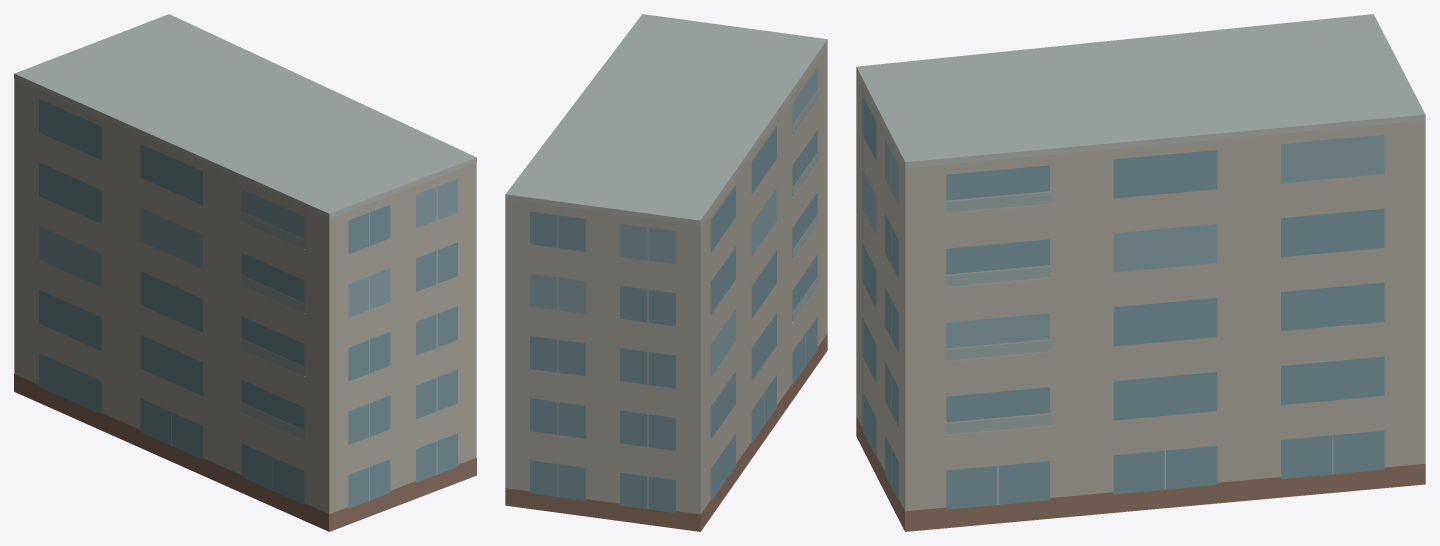
File: survey-upis-32707533.glb
The picture shows the model from 3 angles, left to right: view 1: azimuth 30°, elevation 25°; view 2: azimuth 150°, elevation 25°; view 3: azimuth 270°, elevation 25°; orthographic projection. The views are drawn at different scales.
Visible parts, largest first — view 1: survey-upis-32707533.tmp; view 2: survey-upis-32707533.tmp; view 3: survey-upis-32707533.tmp.
Part boxes in pixels (<box>): survey-upis-32707533.tmp: <box>14,14,476,531</box>; survey-upis-32707533.tmp: <box>505,14,827,531</box>; survey-upis-32707533.tmp: <box>856,14,1425,531</box>.
Size of the model in its own units: 13.15 by 15.3 by 21.35.
